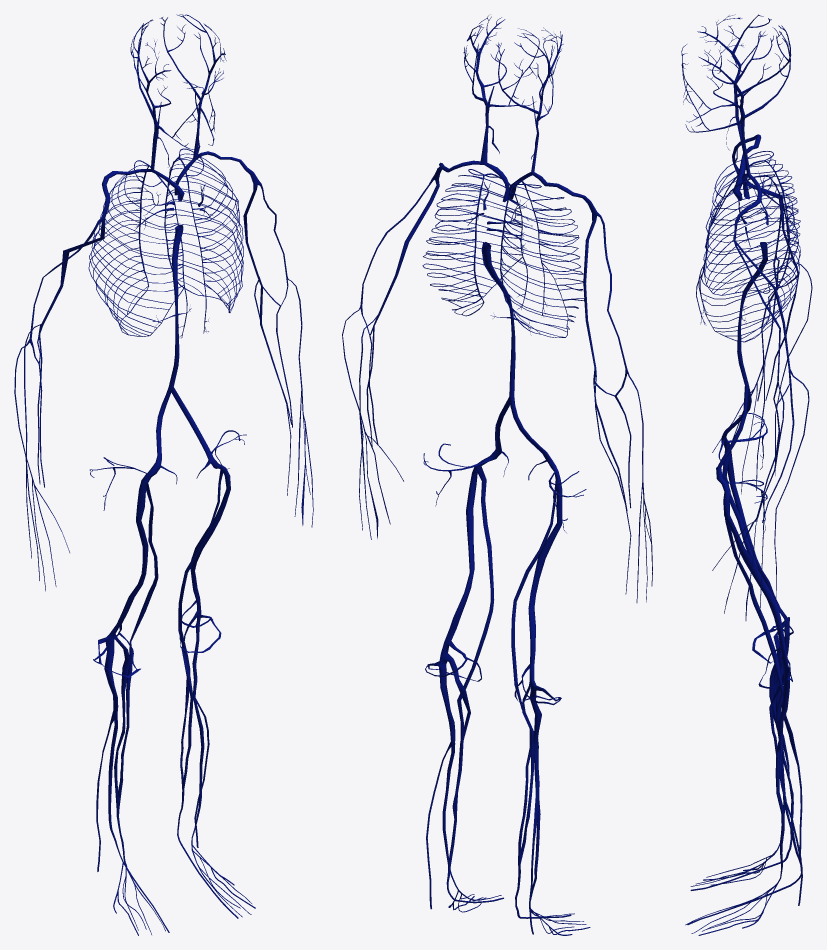
Rendered from vein.glb.
The picture shows the model from 3 angles, left to right: view 1: azimuth 30°, elevation 25°; view 2: azimuth 150°, elevation 25°; view 3: azimuth 270°, elevation 25°; orthographic projection. The views are drawn at different scales.
Visible parts, largest first — view 1: model_17.001; view 2: model_17.001; view 3: model_17.001.
Boxes of the visible parts, x1,y1,x2,y2 form: model_17.001: (14, 14, 313, 935); model_17.001: (342, 15, 652, 935); model_17.001: (681, 14, 812, 935).
Size of the model in its own units: 2.89 by 8.43 by 1.13.
